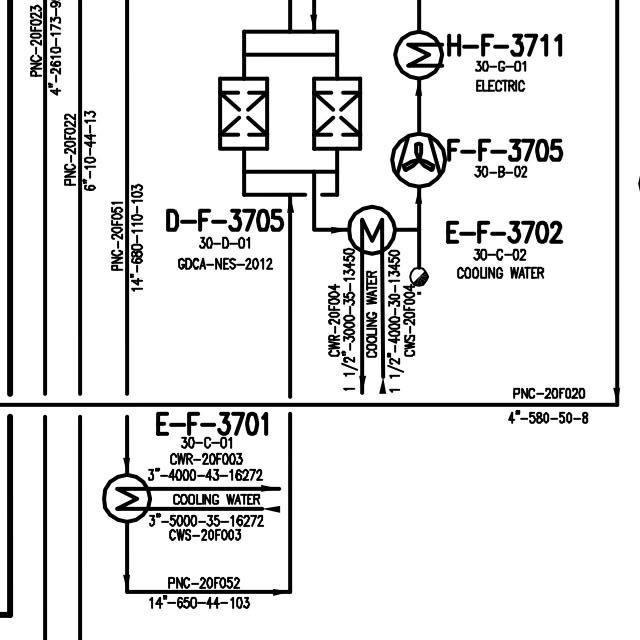D3: (303, 67, 369, 158), (209, 69, 273, 157)
F: (389, 127, 448, 189)
HE: (97, 469, 152, 525), (389, 27, 446, 81), (347, 205, 397, 256)
